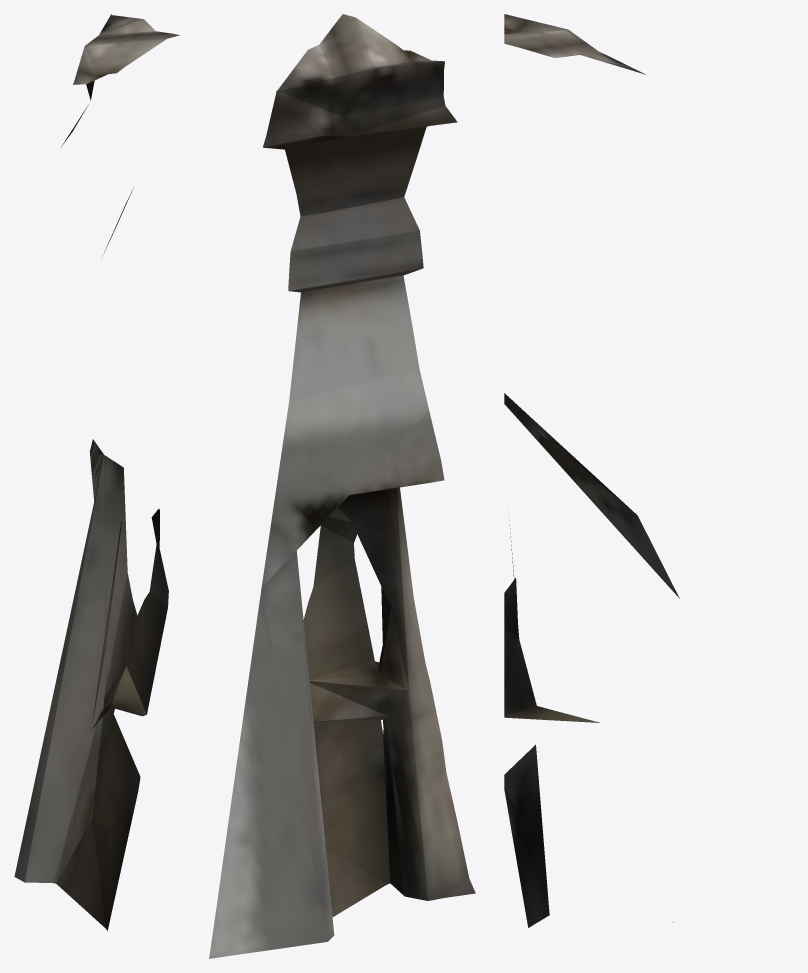
3 views of the same model, side by side, from view 1: azimuth 30°, elevation 25°; view 2: azimuth 150°, elevation 25°; view 3: azimuth 270°, elevation 25° (orthographic). The views are drawn at different scales.
Size of the model in its own units: 0.4306 by 2.62 by 0.7501.
1 material, 1 textured.
